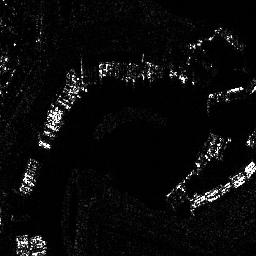ship: (36, 138, 51, 150)
